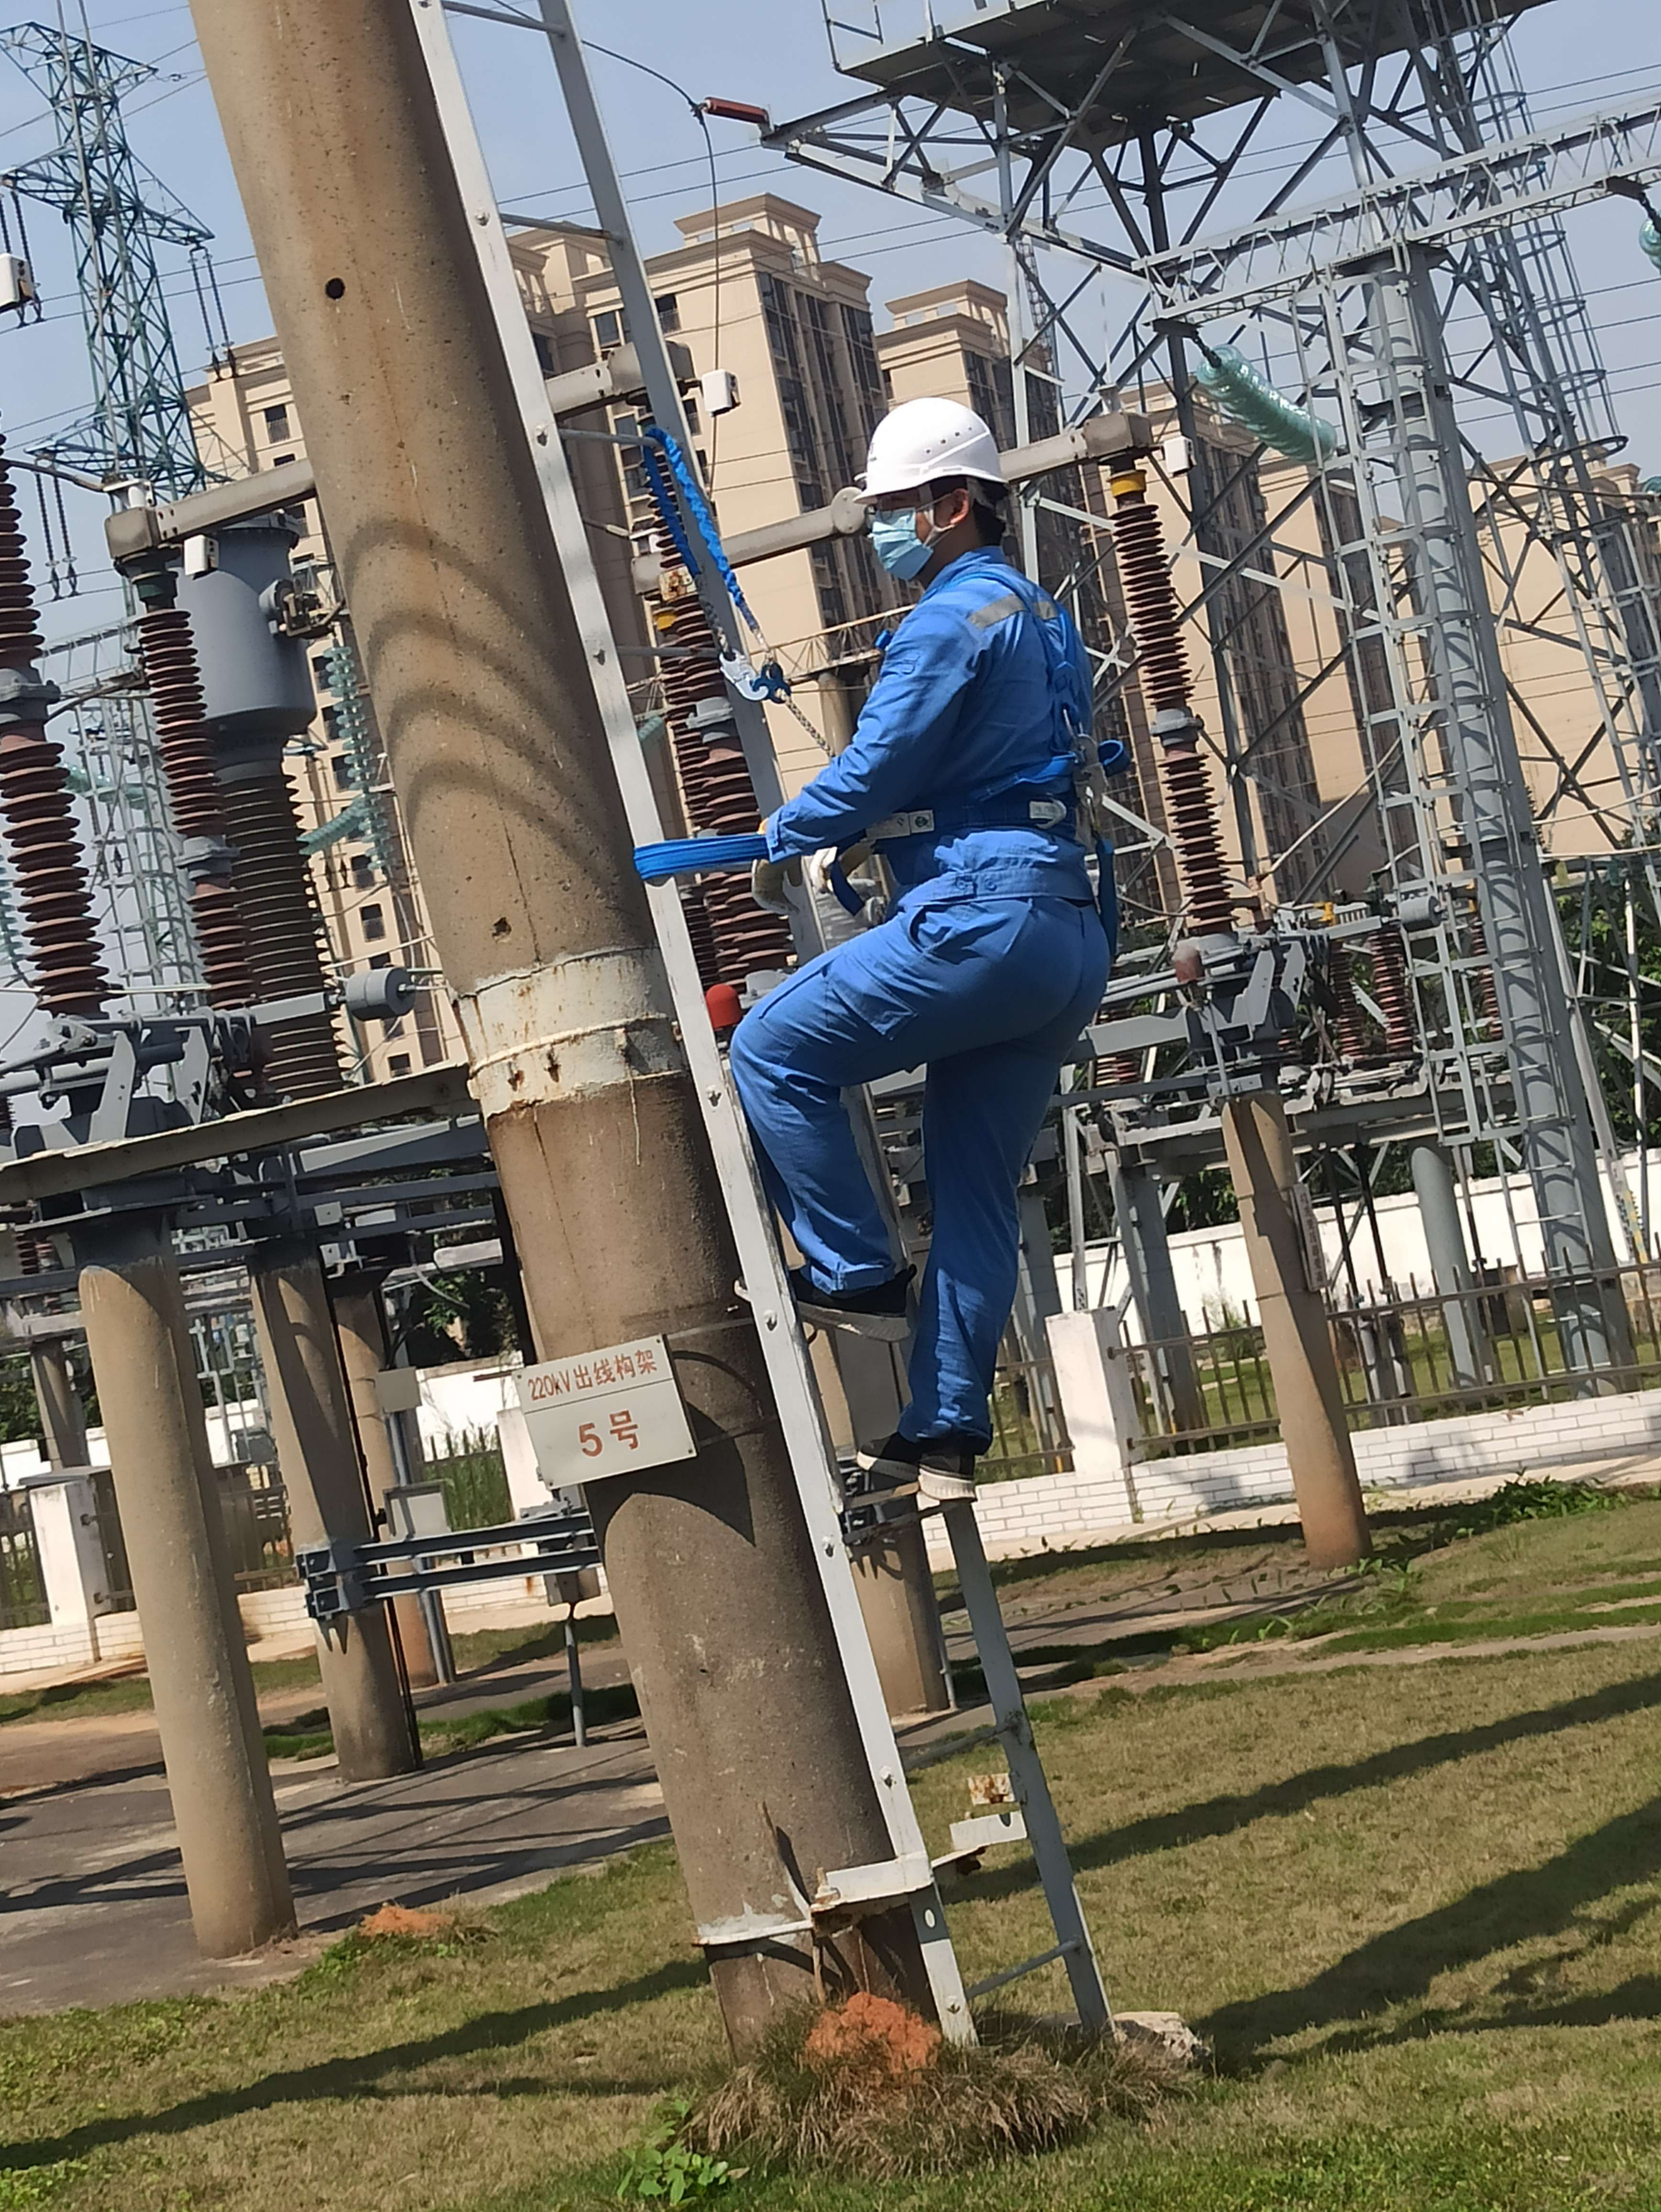downsuit: (747, 904, 1103, 1439)
upsuit: (841, 577, 1108, 862)
